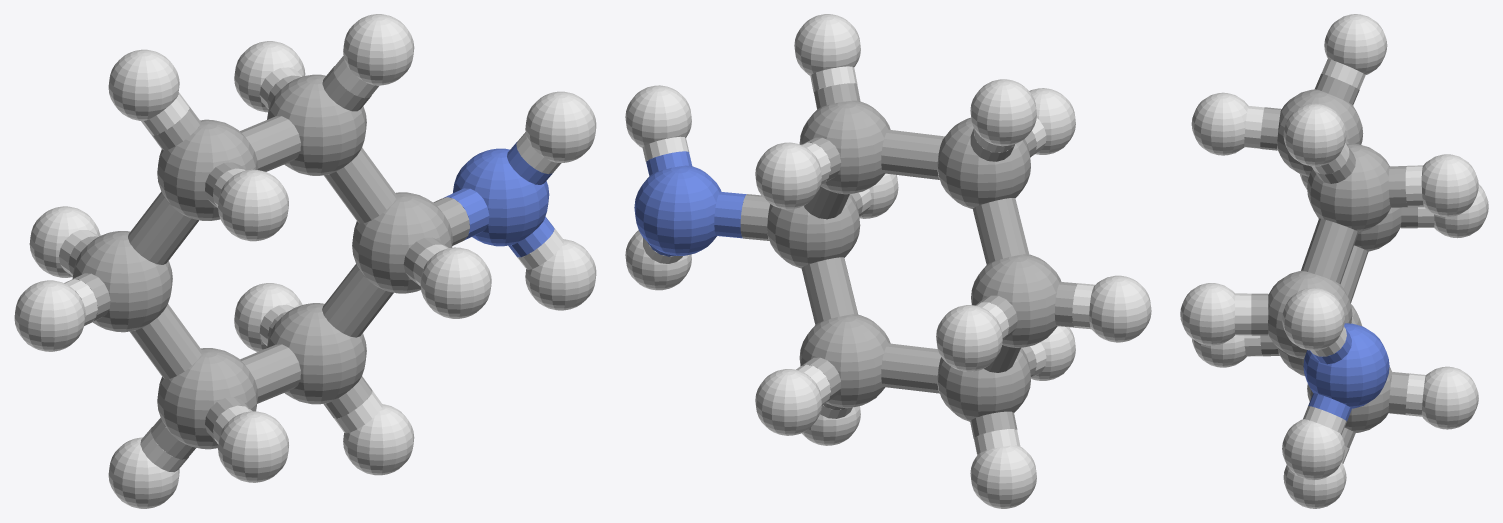
The model's file is CYCLOHEXYLAMINE.fbx.
The picture shows the model from 3 angles, left to right: view 1: azimuth 30°, elevation 25°; view 2: azimuth 150°, elevation 25°; view 3: azimuth 270°, elevation 25°; orthographic projection. The views are drawn at different scales.
Visible parts, largest first — view 1: ShapeSphere.003, ShapeSphere.002, ShapeSphere.006, ShapeSphere.005, ShapeSphere.001, ShapeSphere.004, ShapeSphere, ShapeSphere.014, ShapeSphere.013, ShapeSphere.016, ShapeSphere.007, ShapeSphere.009 (+30 smaller); view 2: ShapeSphere, ShapeSphere.003, ShapeSphere.002, ShapeSphere.006, ShapeSphere.004, ShapeSphere.001, ShapeSphere.005, ShapeSphere.017, ShapeSphere.011, ShapeSphere.008, ShapeSphere.012, ShapeSphere.016 (+24 smaller); view 3: ShapeSphere.002, ShapeSphere, ShapeSphere.009, ShapeSphere.019, ShapeSphere.008, ShapeSphere.018, ShapeSphere.011, ShapeSphere.007, ShapeSphere.013, ShapeSphere.012, ShapeSphere.001, ShapeCylinder.006 (+26 smaller).
Boxes of the visible parts, x1=… form: ShapeSphere.003: x1=267, y1=303, x2=366, y2=404; ShapeSphere.002: x1=267, y1=74, x2=366, y2=175; ShapeSphere.006: x1=72, y1=231, x2=172, y2=332; ShapeSphere.005: x1=157, y1=348, x2=257, y2=449; ShapeSphere.001: x1=352, y1=192, x2=452, y2=293; ShapeSphere.004: x1=157, y1=119, x2=257, y2=220; ShapeSphere: x1=453, y1=148, x2=549, y2=246; ShapeSphere.014: x1=218, y1=411, x2=288, y2=482; ShapeSphere.013: x1=218, y1=169, x2=288, y2=241; ShapeSphere.016: x1=14, y1=280, x2=85, y2=351; ShapeSphere.007: x1=420, y1=247, x2=491, y2=318; ShapeSphere.009: x1=343, y1=14, x2=414, y2=85; ShapeSphere: x1=634, y1=165, x2=721, y2=255; ShapeSphere.003: x1=799, y1=314, x2=890, y2=407; ShapeSphere.002: x1=799, y1=100, x2=890, y2=194; ShapeSphere.006: x1=971, y1=254, x2=1061, y2=347; ShapeSphere.004: x1=937, y1=117, x2=1030, y2=208; ShapeSphere.001: x1=767, y1=194, x2=860, y2=268; ShapeSphere.005: x1=937, y1=348, x2=1030, y2=421; ShapeSphere.017: x1=936, y1=305, x2=1002, y2=371; ShapeSphere.011: x1=755, y1=369, x2=821, y2=435; ShapeSphere.008: x1=755, y1=142, x2=821, y2=209; ShapeSphere.012: x1=970, y1=79, x2=1036, y2=146; ShapeSphere.016: x1=1089, y1=275, x2=1151, y2=342; ShapeSphere.002: x1=1307, y1=143, x2=1390, y2=232; ShapeSphere: x1=1303, y1=323, x2=1389, y2=408; ShapeSphere.009: x1=1283, y1=103, x2=1346, y2=166; ShapeSphere.019: x1=1282, y1=287, x2=1344, y2=350; ShapeSphere.008: x1=1421, y1=154, x2=1478, y2=216; ShapeSphere.018: x1=1282, y1=419, x2=1344, y2=480; ShapeSphere.011: x1=1421, y1=366, x2=1478, y2=429; ShapeSphere.007: x1=1180, y1=283, x2=1235, y2=345; ShapeSphere.013: x1=1191, y1=92, x2=1248, y2=155; ShapeSphere.012: x1=1324, y1=14, x2=1387, y2=74; ShapeSphere.001: x1=1268, y1=270, x2=1352, y2=358; ShapeCylinder.006: x1=1301, y1=218, x2=1358, y2=284.
Size of the model in its own units: 652 by 504 by 353.
